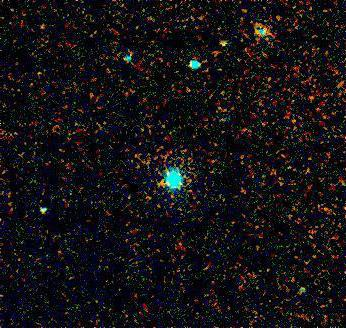star: (286, 274, 316, 304)
